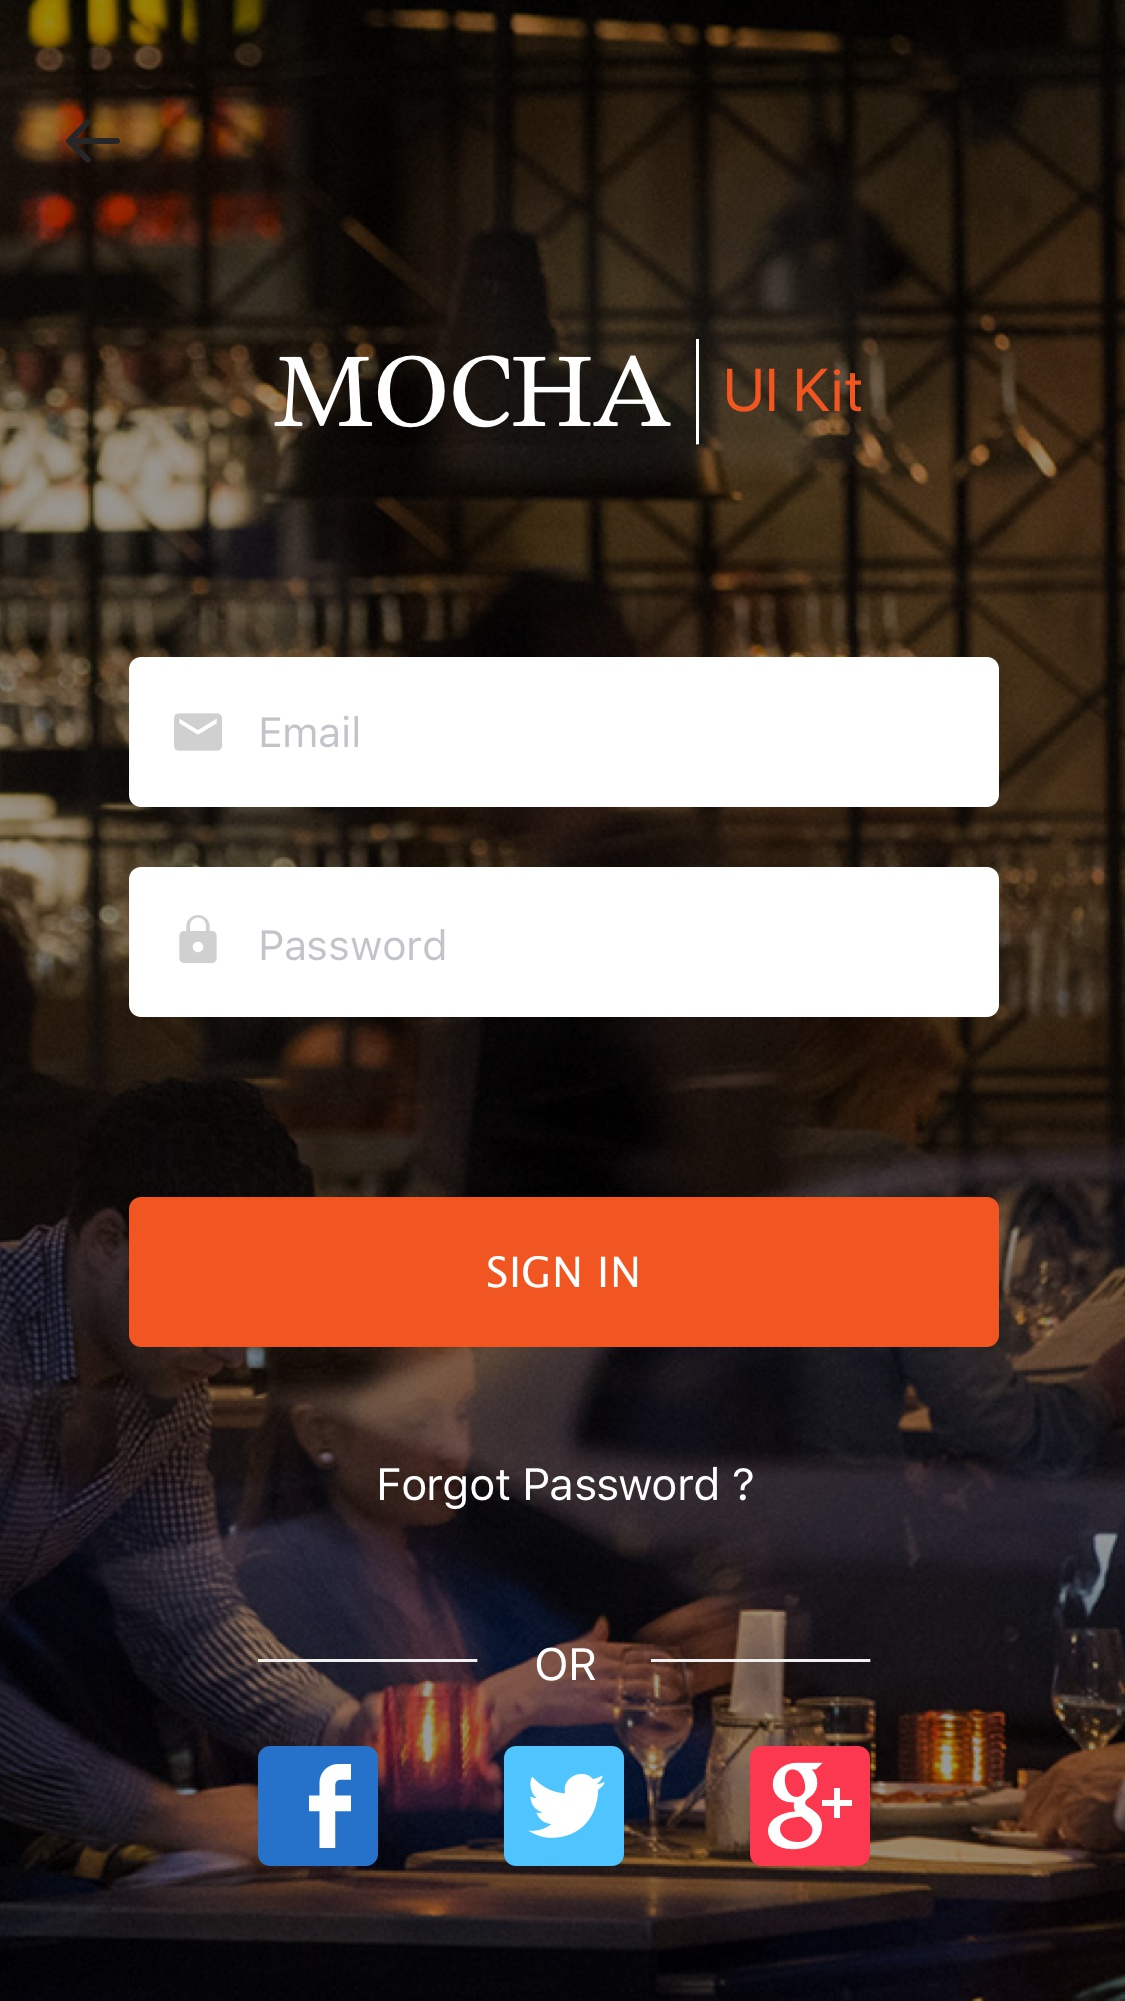BackgroundImage: (1, 1, 1125, 2001)
EditText: (129, 867, 1000, 1018), (129, 657, 1000, 808)
Icon: (258, 1745, 379, 1866), (504, 1745, 625, 1866), (750, 1745, 871, 1866), (67, 120, 121, 165), (179, 915, 218, 963), (174, 713, 223, 752)
Text: (273, 355, 672, 429), (379, 1466, 754, 1510), (727, 368, 863, 415), (261, 928, 445, 961), (261, 715, 359, 749), (536, 1646, 598, 1682)
TextButton: (129, 1197, 1000, 1348)
